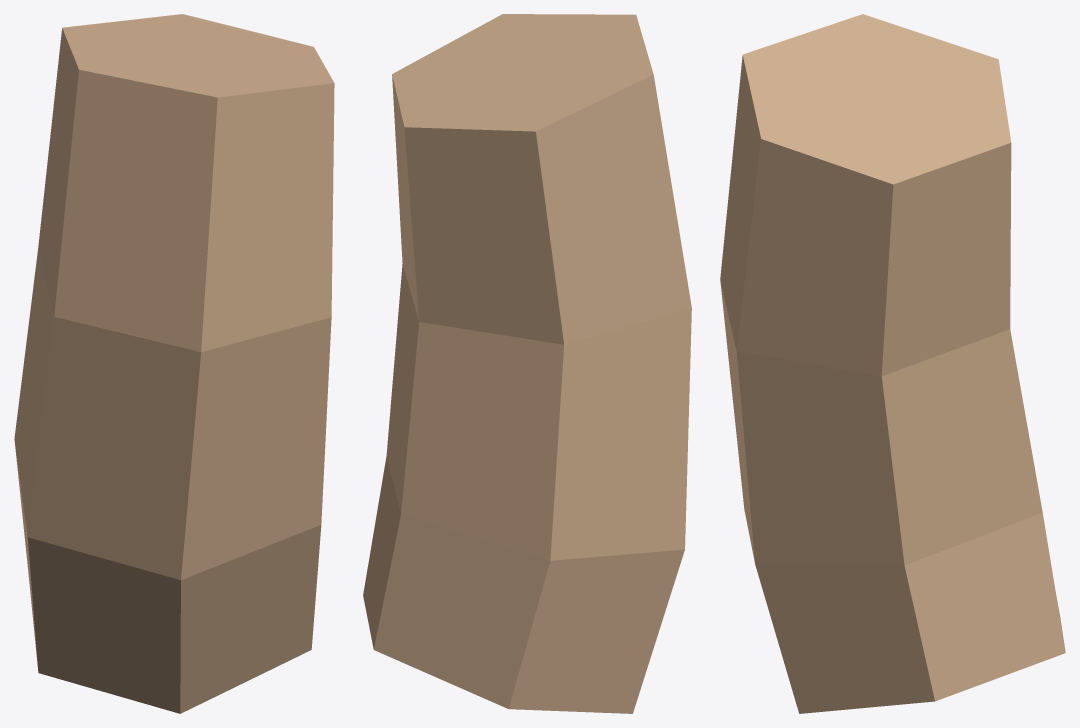
The model's file is trunk.fbx.
3 views of the same model, side by side, from view 1: azimuth 30°, elevation 25°; view 2: azimuth 150°, elevation 25°; view 3: azimuth 270°, elevation 25° (orthographic).
Visible parts, largest first — view 1: trunkmesh; view 2: trunkmesh; view 3: trunkmesh.
Part boxes in pixels (bbox=[...]): trunkmesh: bbox=[14, 14, 334, 713]; trunkmesh: bbox=[363, 14, 691, 713]; trunkmesh: bbox=[720, 14, 1065, 713].
Bounding box in the file's own units: 18.39 × 37.19 × 18.43.
